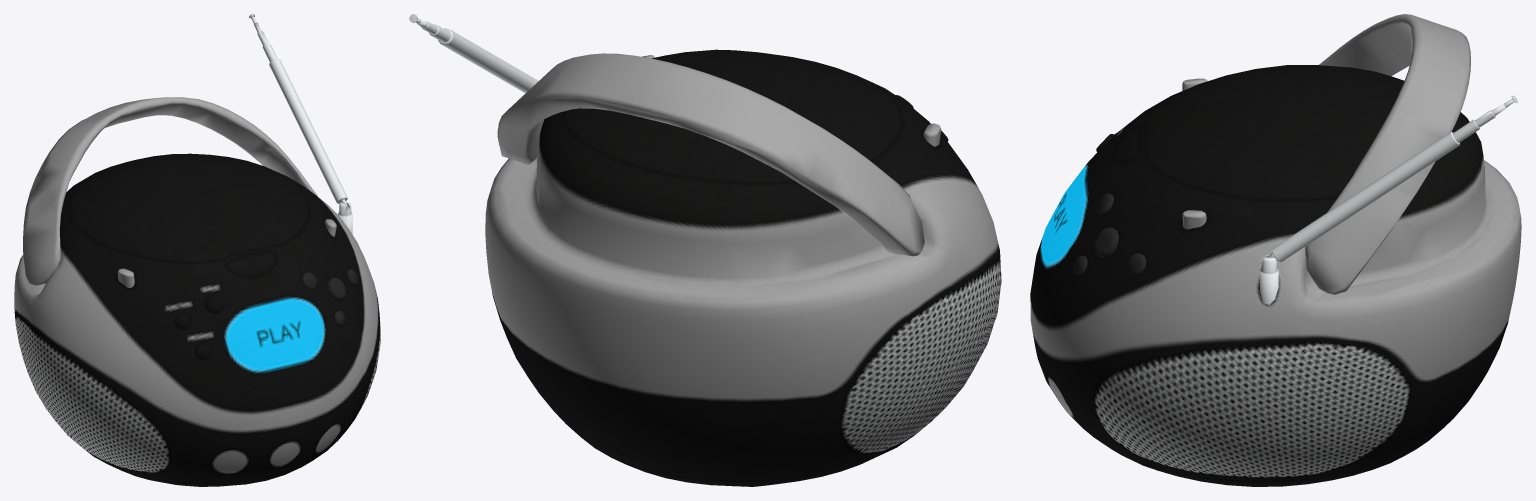
File: boombox.glb
3 views of the same model, side by side, from view 1: azimuth 30°, elevation 25°; view 2: azimuth 150°, elevation 25°; view 3: azimuth 270°, elevation 25° (orthographic). The views are drawn at different scales.
Visible parts, largest first — view 1: BoomBox; view 2: BoomBox; view 3: BoomBox.
Part boxes in pixels (<box>): BoomBox: <box>14,14,380,486</box>; BoomBox: <box>409,14,1001,486</box>; BoomBox: <box>1030,14,1521,486</box>.
Bounding box in the file's own units: 0.0198 × 0.0195 × 0.0202.
1 material, 1 textured.
